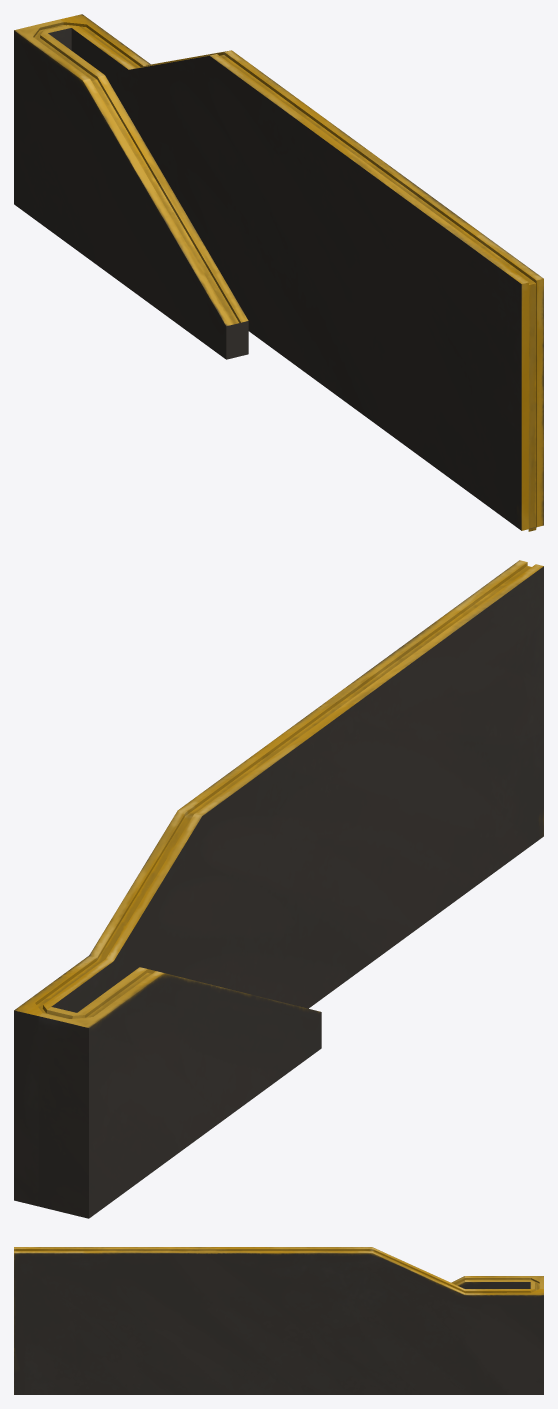
Rendered from LeftWall.fbx.
The picture shows the model from 3 angles, top to bottom: view 1: azimuth 30°, elevation 25°; view 2: azimuth 150°, elevation 25°; view 3: azimuth 270°, elevation 25°; orthographic projection. The views are drawn at different scales.
Visible parts, largest first — view 1: Box002; view 2: Box002; view 3: Box002.
Part boxes in pixels (<box>): Box002: <box>14,14,543,531</box>; Box002: <box>14,560,543,1218</box>; Box002: <box>14,1247,543,1394</box>.
Bounding box in the file's own units: 7.82 × 27.28 × 91.36.
Materials: 1 (1 with a texture image).
